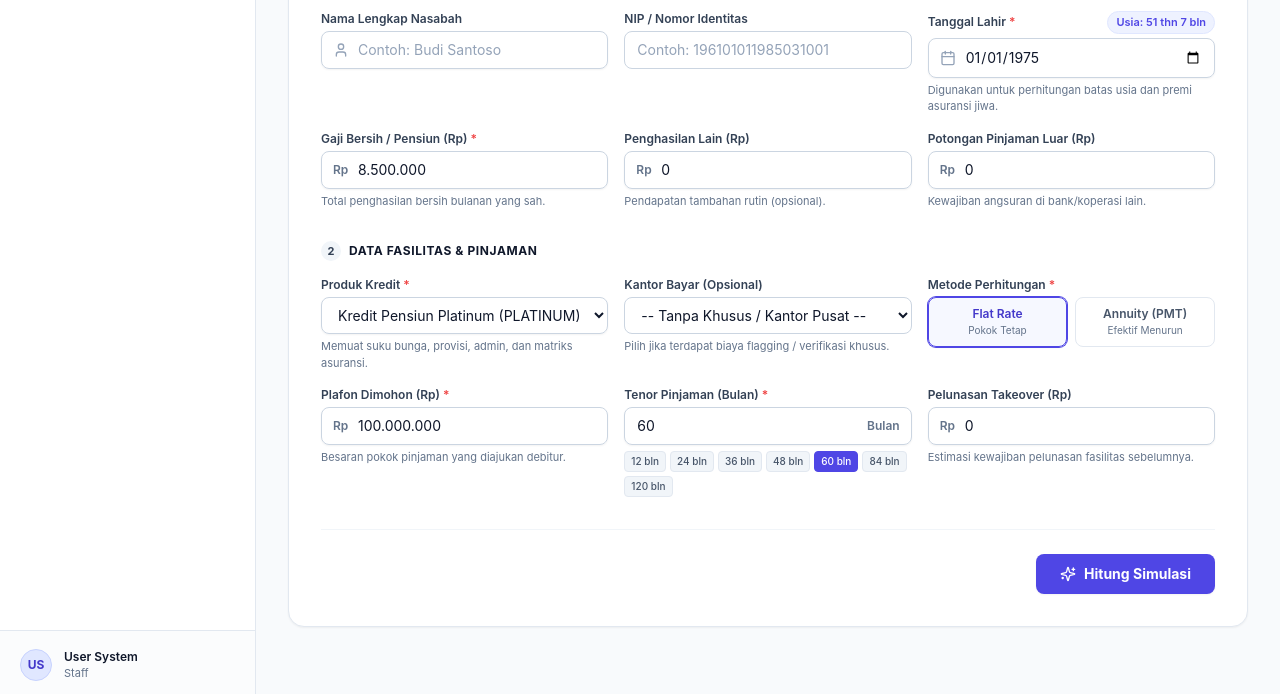
Test: TASK-051: Save Simulation Flow Tests › should complete save simulation flow: click save -> POST /simulations -> success feedback -> link to detail
The image size is (1280, 694).
(page scrolled)
# Trigger calculate
Click the button with test id "calculate-submit-btn": point(1126, 574) [1036, 554, 1215, 594]
(page scrolled)
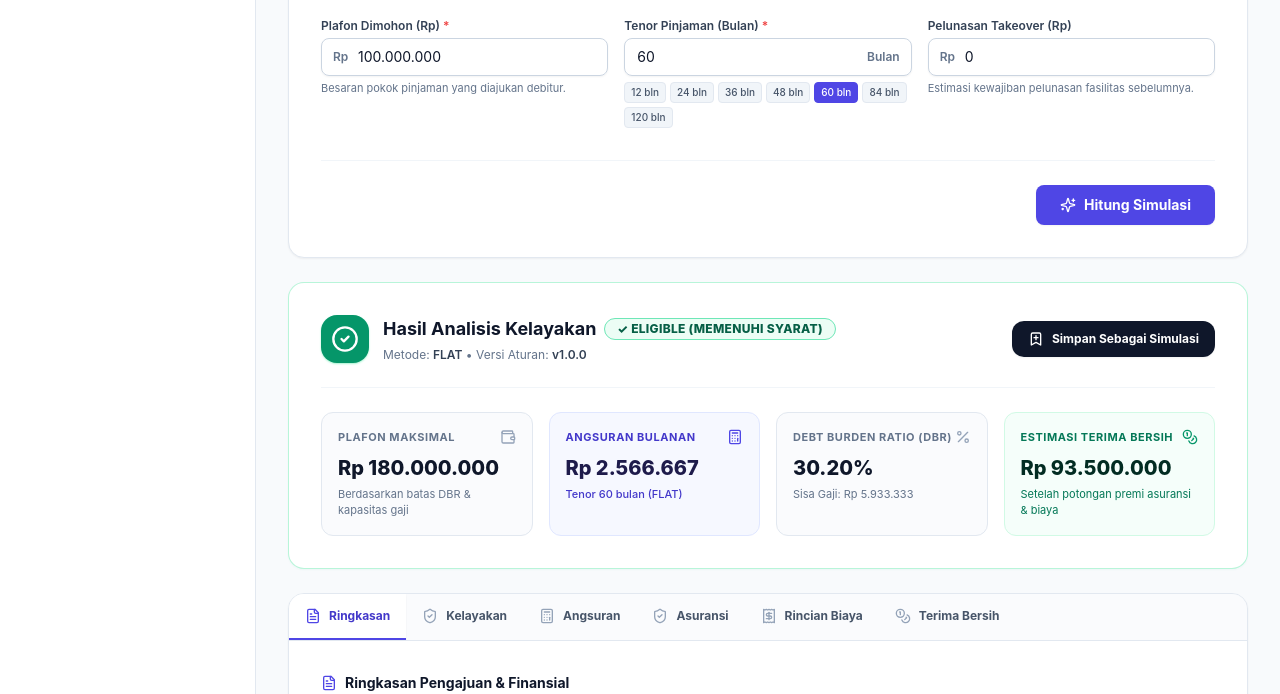
expect the button with test id "save-simulation-btn" is shown: met
expect the button with test id "save-simulation-btn" is enabled: met
# Click Save Simulation
Click the button with test id "save-simulation-btn": point(1114, 339) [1012, 321, 1215, 357]
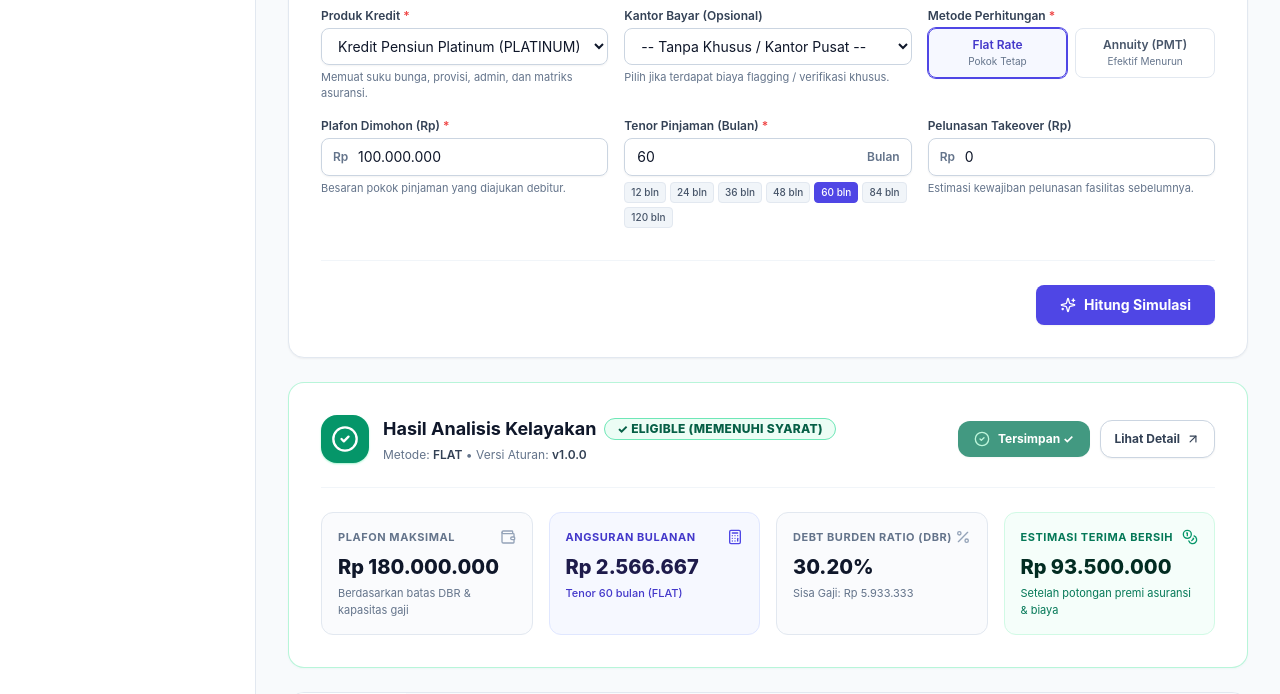
expect the button with test id "save-simulation-btn" reads "Tersimpan ✓": met, box [958, 420, 1090, 456]
expect the button with test id "save-simulation-btn" is disabled: met, box [958, 420, 1090, 456]
